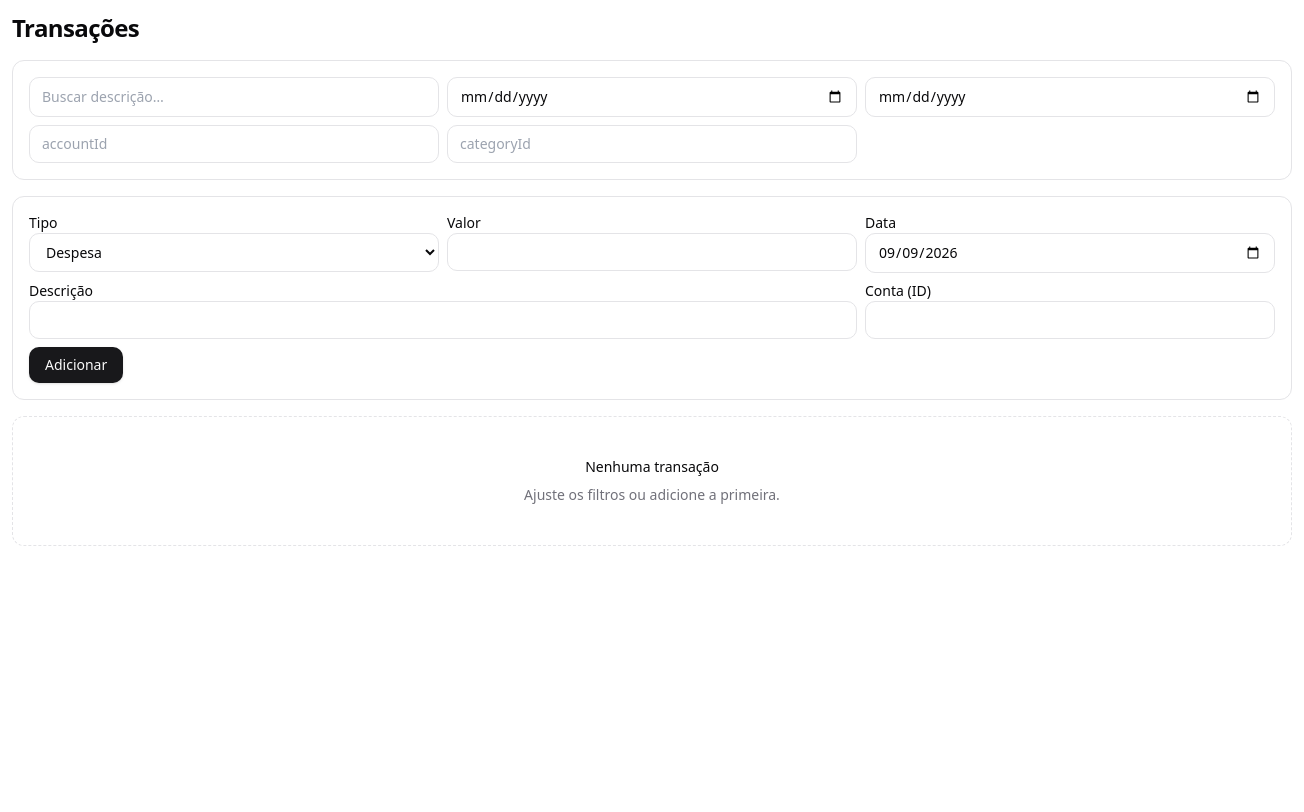
Test case: TransactionsManager - task 4.6 › pula optimistic quando há filtro ativo (evita item fora do filtro)
The width and height of the screenshot is (1304, 812).
Expected: the text "Nenhuma transação" is shown, [585,457,719,477]
Type "aluguel" into the field labelled "Buscar" at (234, 97), box [29,77,439,117]
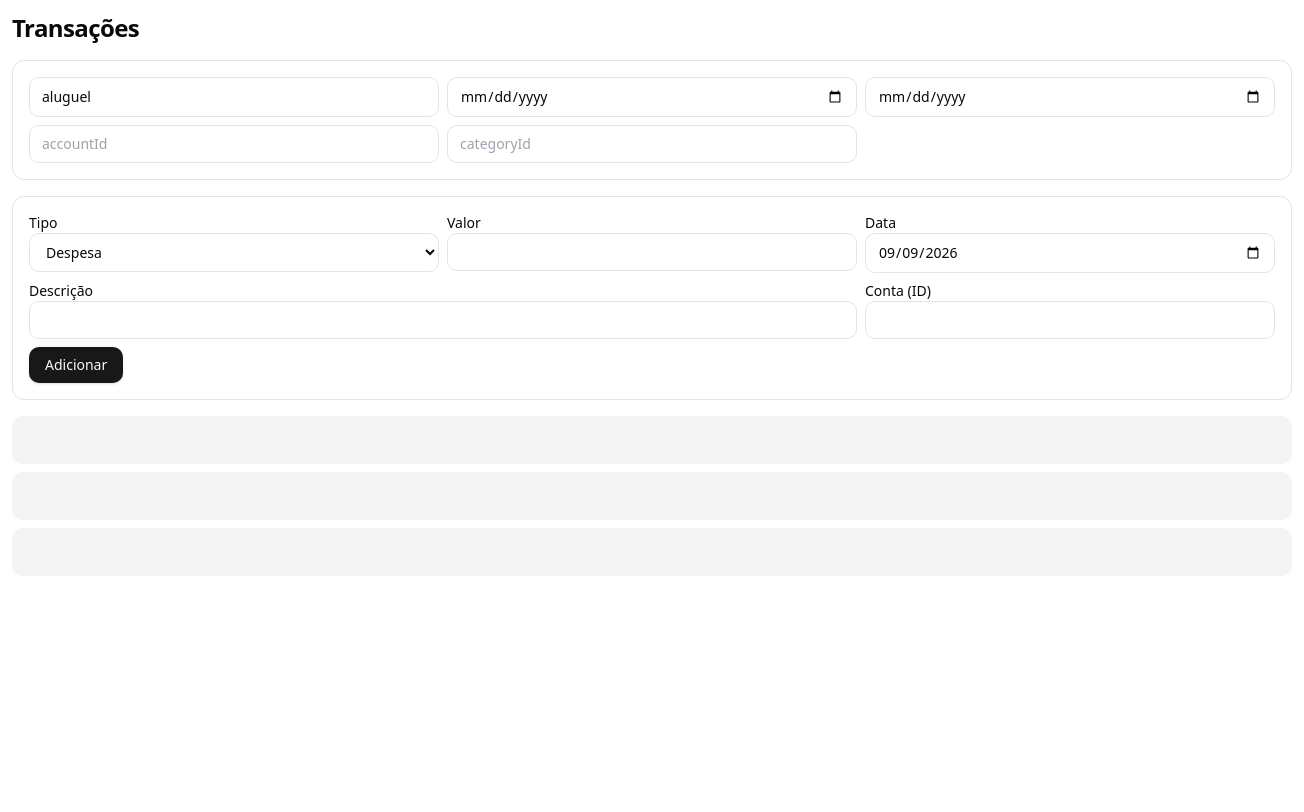
Type "49.9" into the number field labelled "Valor" at (652, 252), box [447,233,857,271]
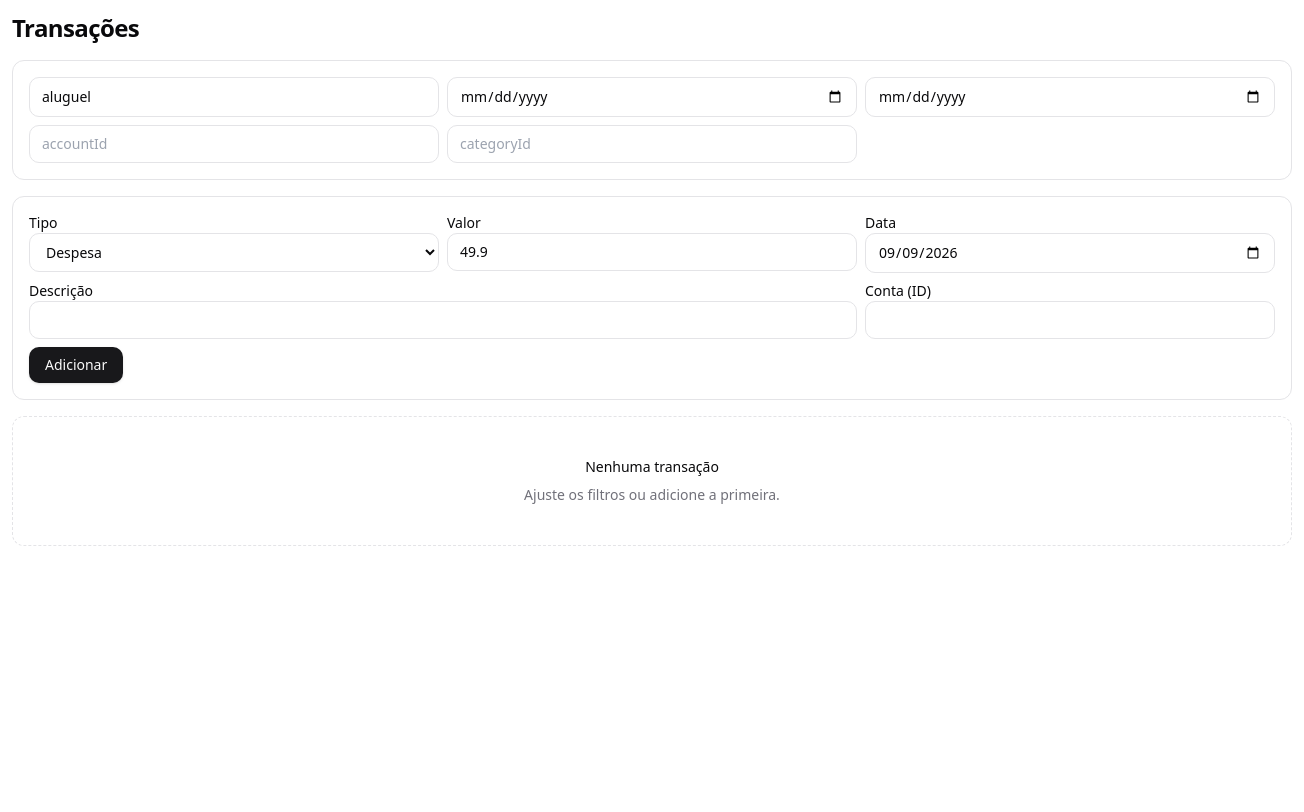
Type "Mercado" into the field labelled "Descrição" at (443, 320), box [29,301,857,339]
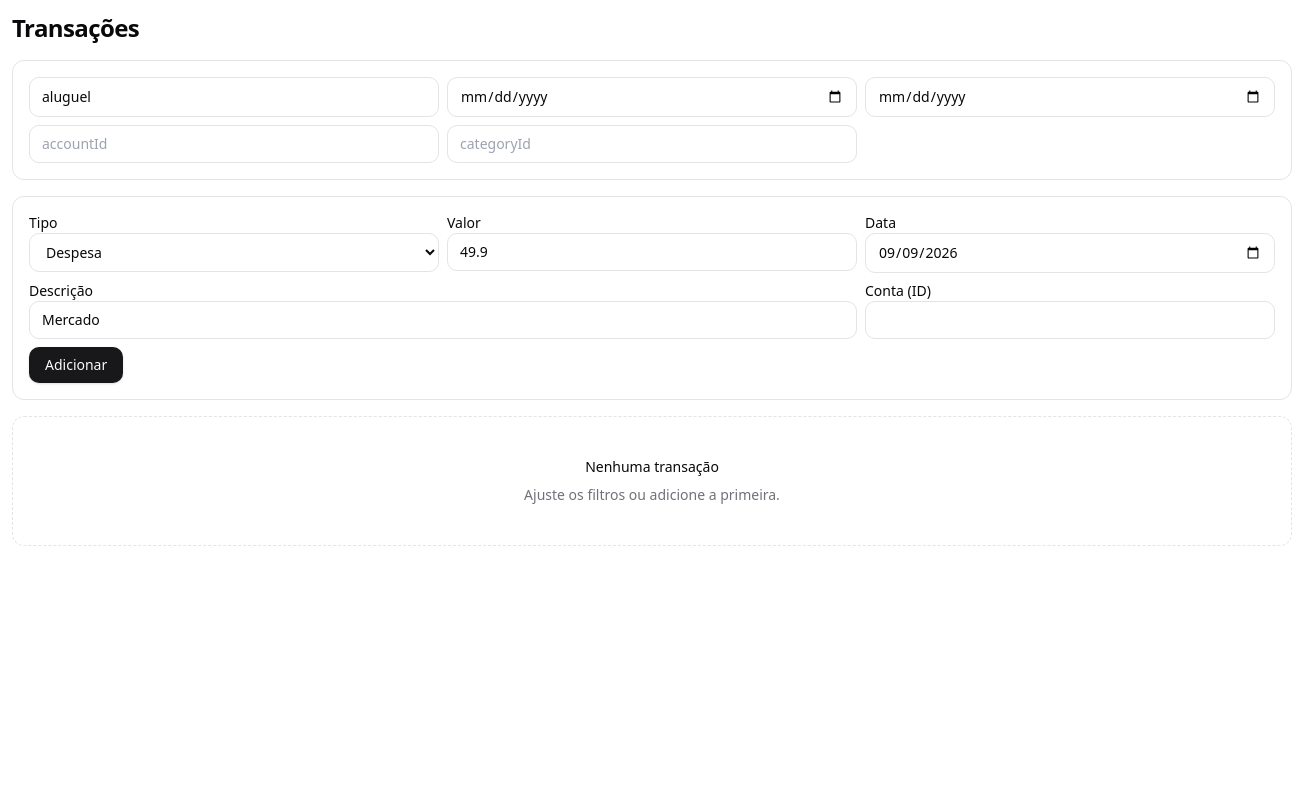
Type "acc_1" into the field labelled "Conta (ID)" at (1070, 320), box [865,301,1275,339]
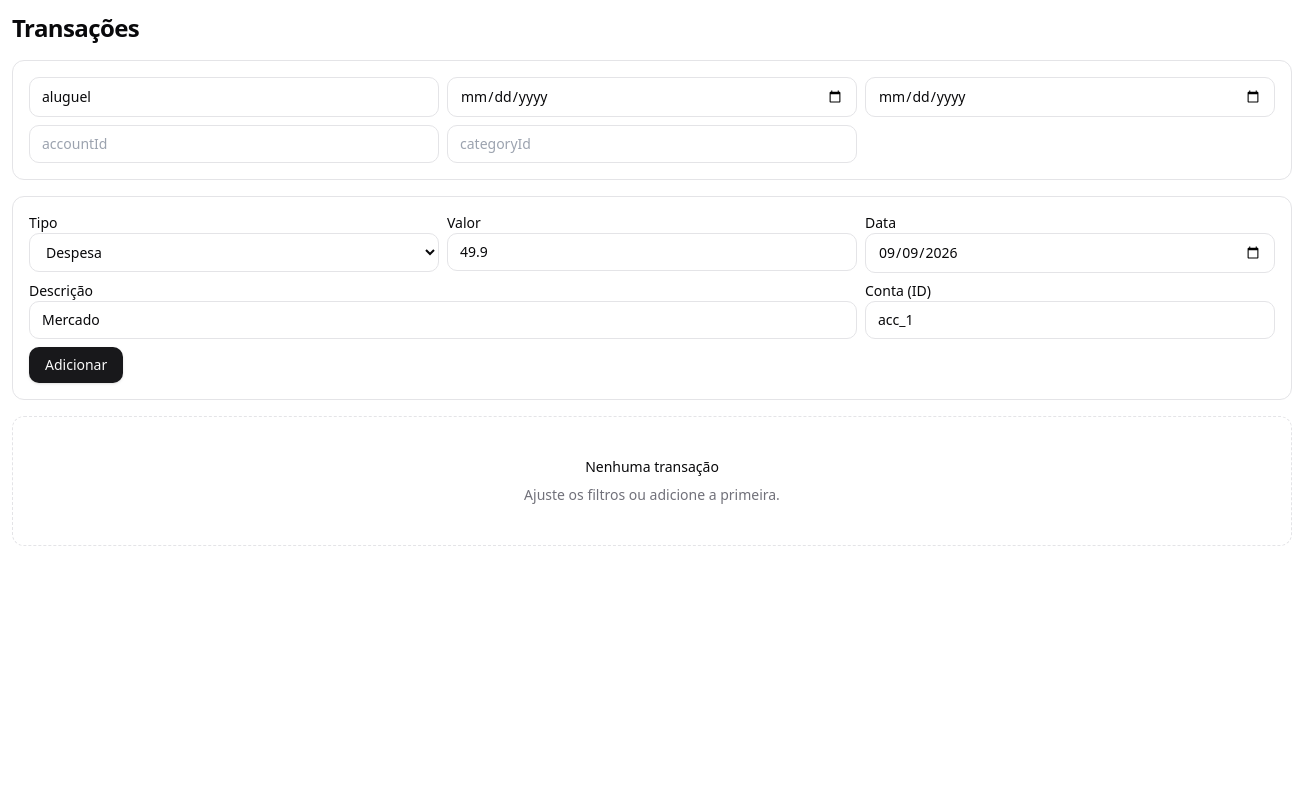
Submit the form named "Nova transação", box [12,196,1292,400]
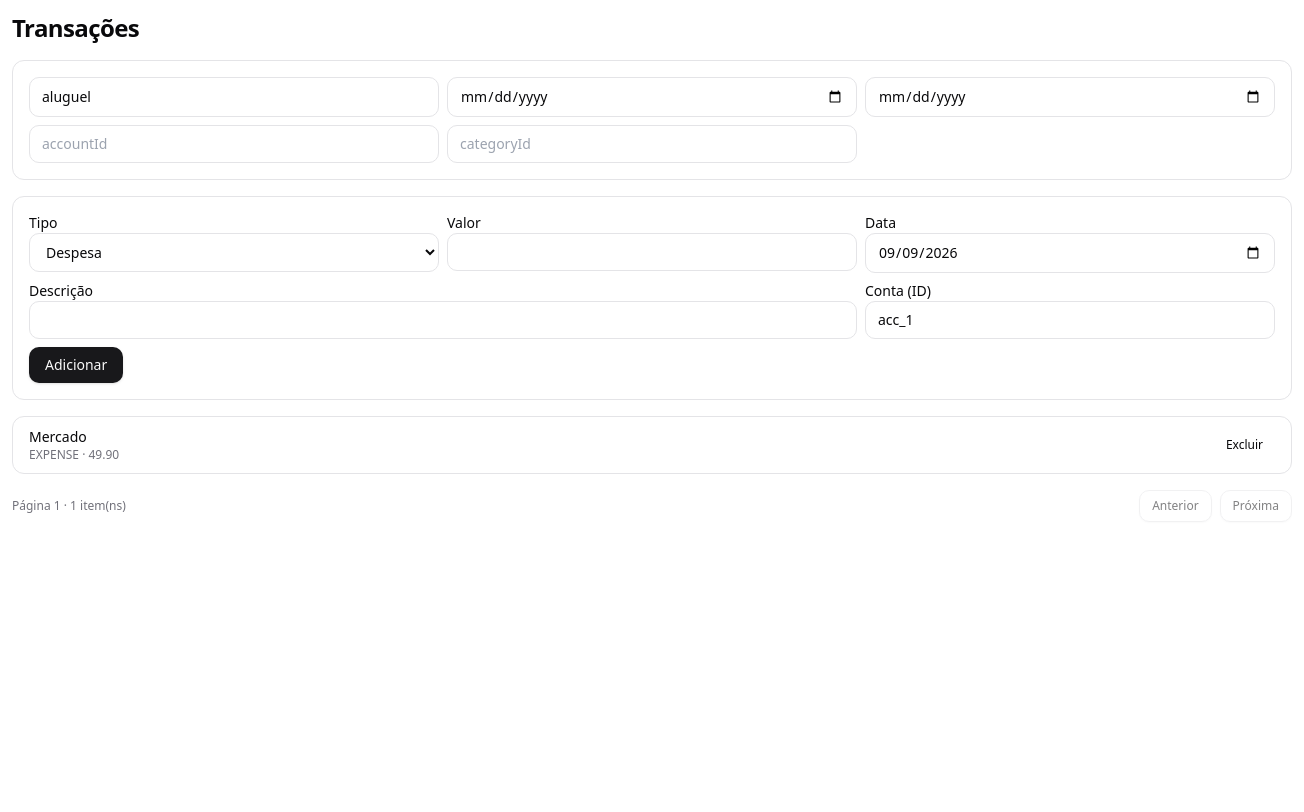
Expected: the text "Mercado" is shown, [29,427,87,446]
